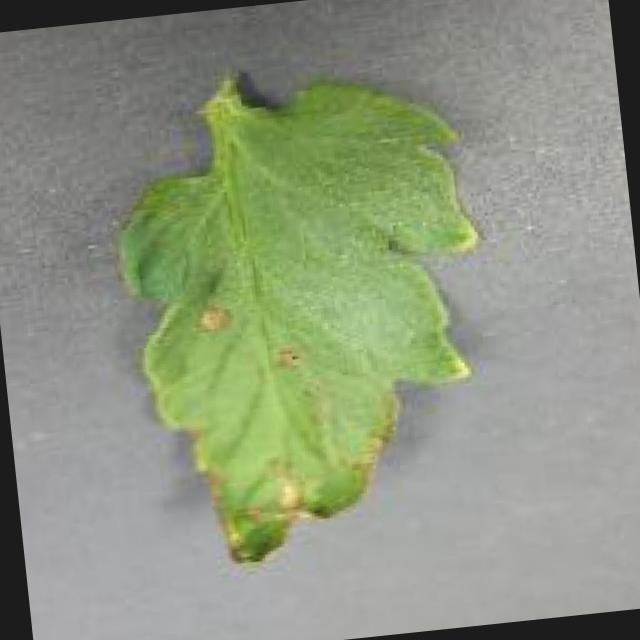bacterial spot: (113, 70, 495, 559)
